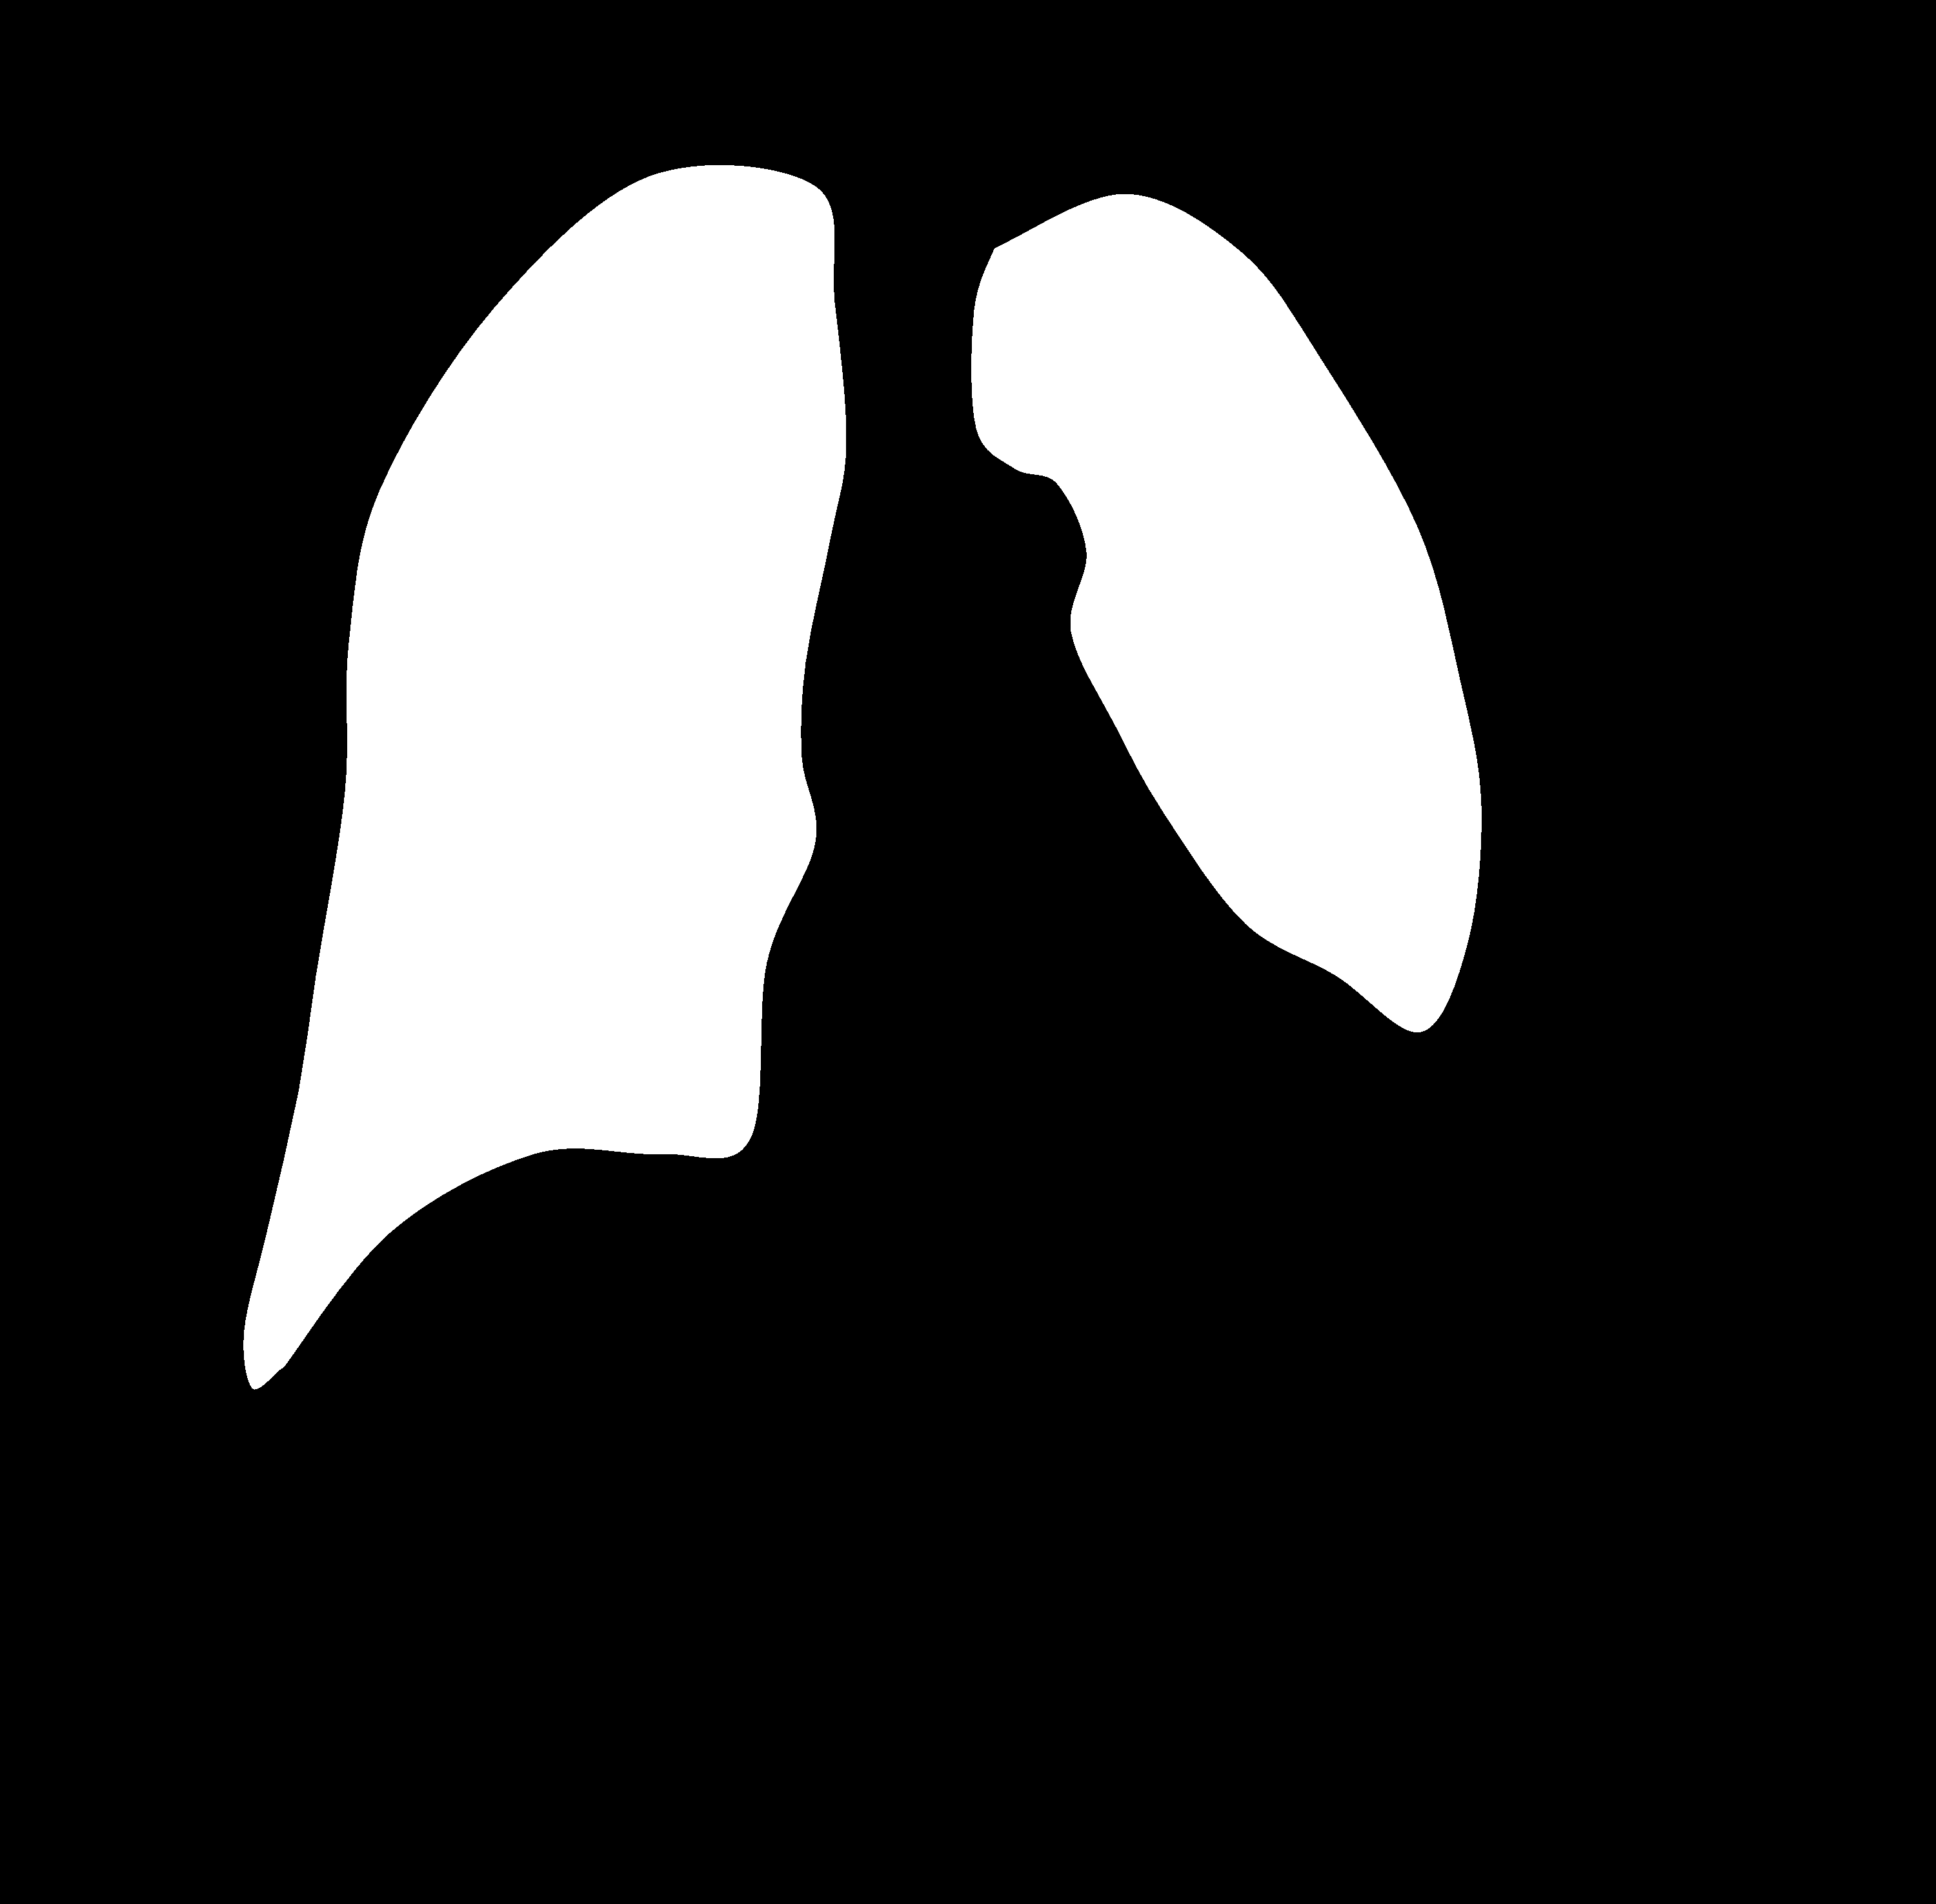heart: (750, 879, 1435, 1306)
left_lung: (242, 166, 846, 1390)
right_lung: (971, 194, 1601, 1308)
